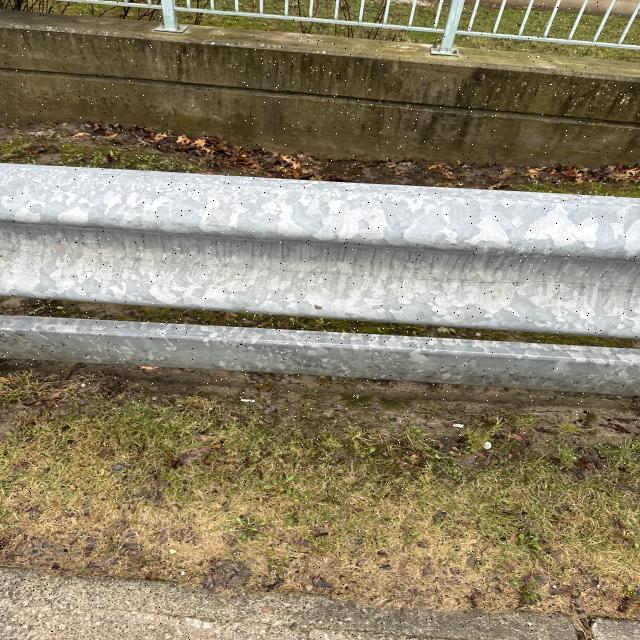Guard rail: (5, 176, 619, 326)
